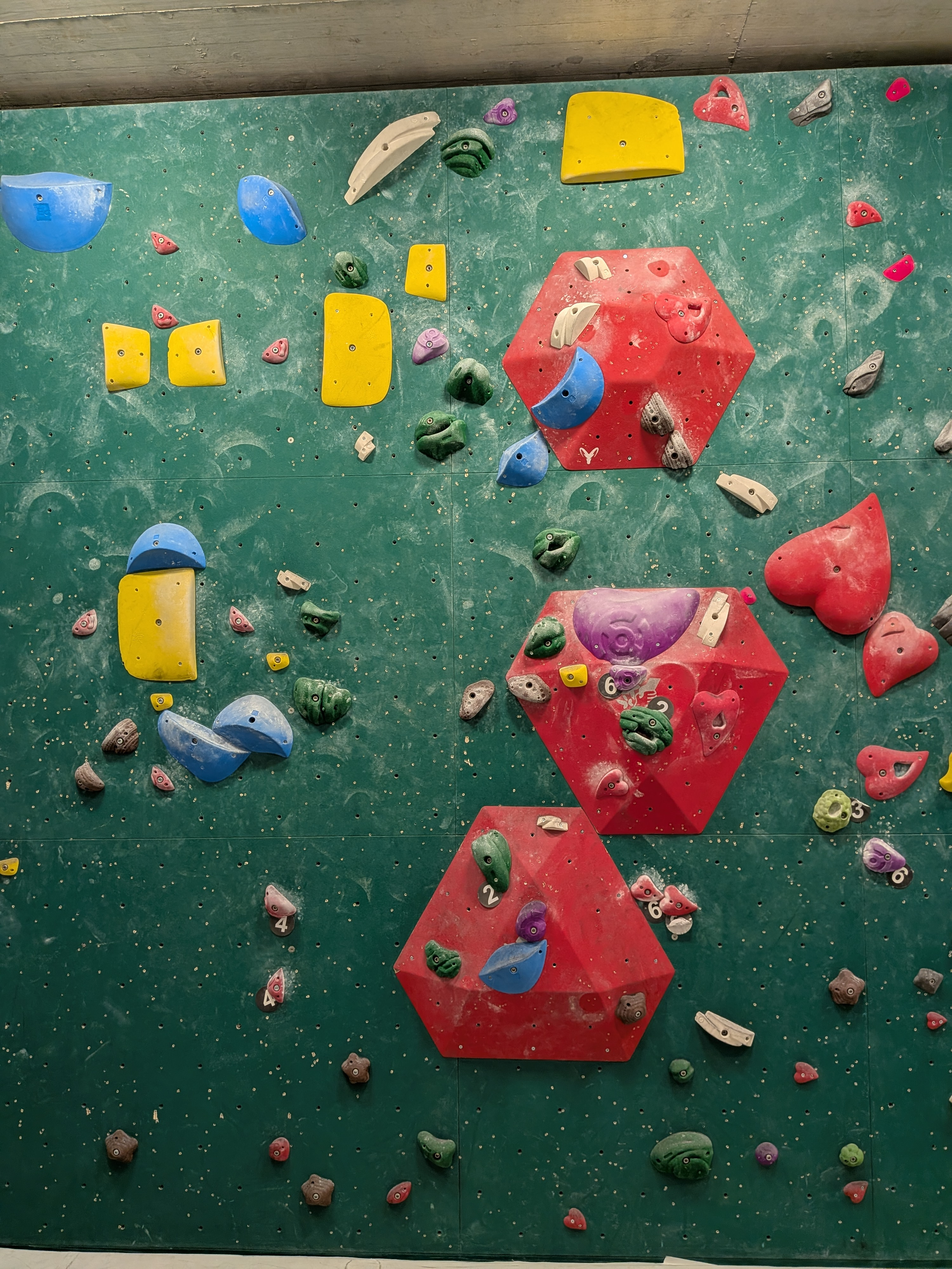hold: (765, 495, 890, 634), (561, 91, 684, 183), (573, 588, 699, 666), (118, 567, 197, 682), (0, 172, 112, 252), (345, 112, 440, 204), (321, 292, 392, 406), (157, 710, 250, 782), (863, 611, 938, 696), (531, 348, 604, 429), (213, 695, 293, 757), (237, 175, 306, 245), (127, 523, 206, 573), (856, 746, 929, 800), (168, 319, 226, 386), (479, 939, 547, 994), (102, 323, 150, 392), (691, 690, 739, 756), (651, 1131, 713, 1180), (694, 76, 749, 131), (497, 430, 549, 487), (655, 293, 712, 344), (294, 678, 352, 725), (619, 707, 673, 757), (441, 127, 494, 177), (415, 411, 467, 460), (716, 473, 777, 513), (472, 830, 511, 891), (405, 244, 446, 301), (550, 302, 599, 348), (445, 358, 493, 404), (695, 1010, 754, 1047), (788, 78, 832, 126), (533, 527, 581, 570), (843, 350, 883, 396), (697, 591, 729, 647), (524, 616, 565, 658), (813, 788, 851, 831), (863, 837, 906, 873), (641, 392, 675, 435), (459, 679, 494, 720), (418, 1131, 456, 1168), (300, 602, 340, 637), (829, 968, 865, 1006), (425, 940, 461, 977), (102, 719, 139, 755), (507, 674, 552, 703), (412, 328, 448, 364), (333, 251, 368, 288), (516, 900, 546, 942), (662, 431, 694, 469), (660, 884, 697, 916), (105, 1129, 138, 1163), (301, 1174, 334, 1206), (264, 885, 296, 918), (931, 595, 952, 645), (597, 768, 629, 800), (483, 97, 518, 126), (609, 665, 647, 691), (846, 201, 883, 227), (616, 992, 646, 1023), (75, 761, 104, 792), (883, 253, 915, 281), (342, 1053, 370, 1084), (576, 257, 612, 281), (631, 875, 662, 902), (914, 967, 943, 994), (277, 570, 311, 591), (72, 609, 97, 637), (229, 605, 254, 633), (262, 338, 288, 364), (669, 1058, 694, 1085), (150, 231, 178, 255), (560, 664, 588, 688), (386, 1180, 412, 1205), (151, 765, 175, 792), (934, 418, 952, 454), (267, 968, 285, 1003), (152, 304, 177, 329), (885, 77, 911, 101), (355, 431, 375, 461), (839, 1143, 864, 1167), (755, 1141, 779, 1166), (843, 1180, 869, 1203), (794, 1061, 818, 1084), (563, 1207, 586, 1231), (538, 814, 568, 832), (269, 1137, 290, 1162), (939, 753, 952, 792), (150, 692, 173, 712), (266, 653, 289, 671), (926, 1011, 947, 1030), (0, 857, 19, 876), (739, 586, 756, 606), (901, 637, 901, 637), (684, 1068, 684, 1068)
volume: (393, 806, 676, 1061), (505, 588, 790, 835), (501, 246, 756, 471), (57, 200, 58, 200)
